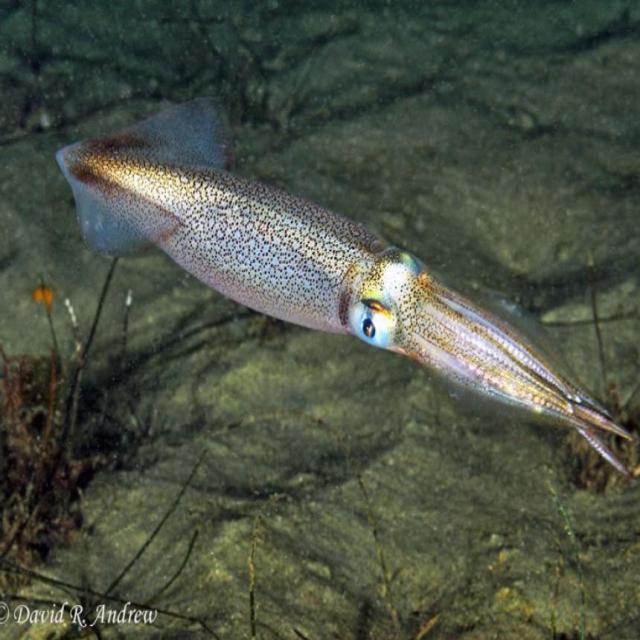SQUID: (41, 111, 630, 471)
